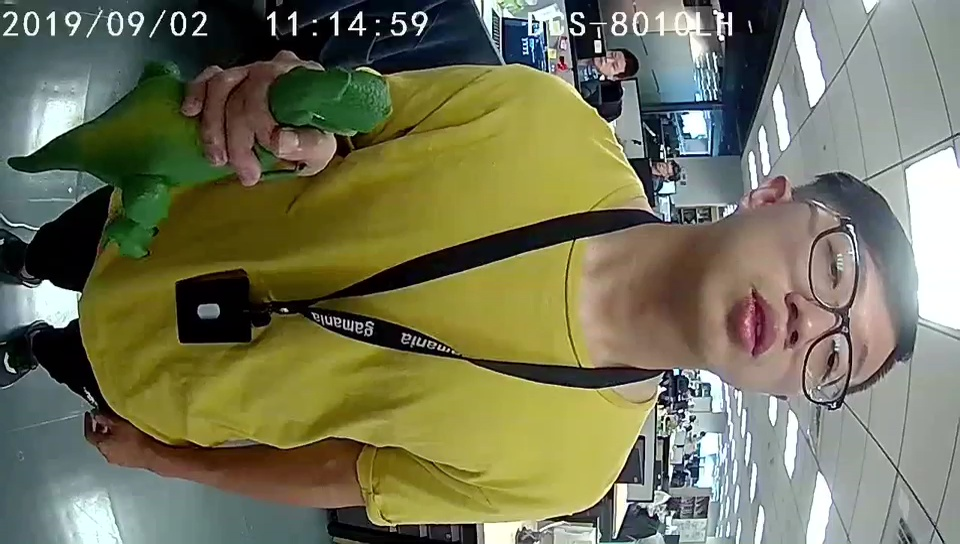rex: (101, 66, 393, 255)
